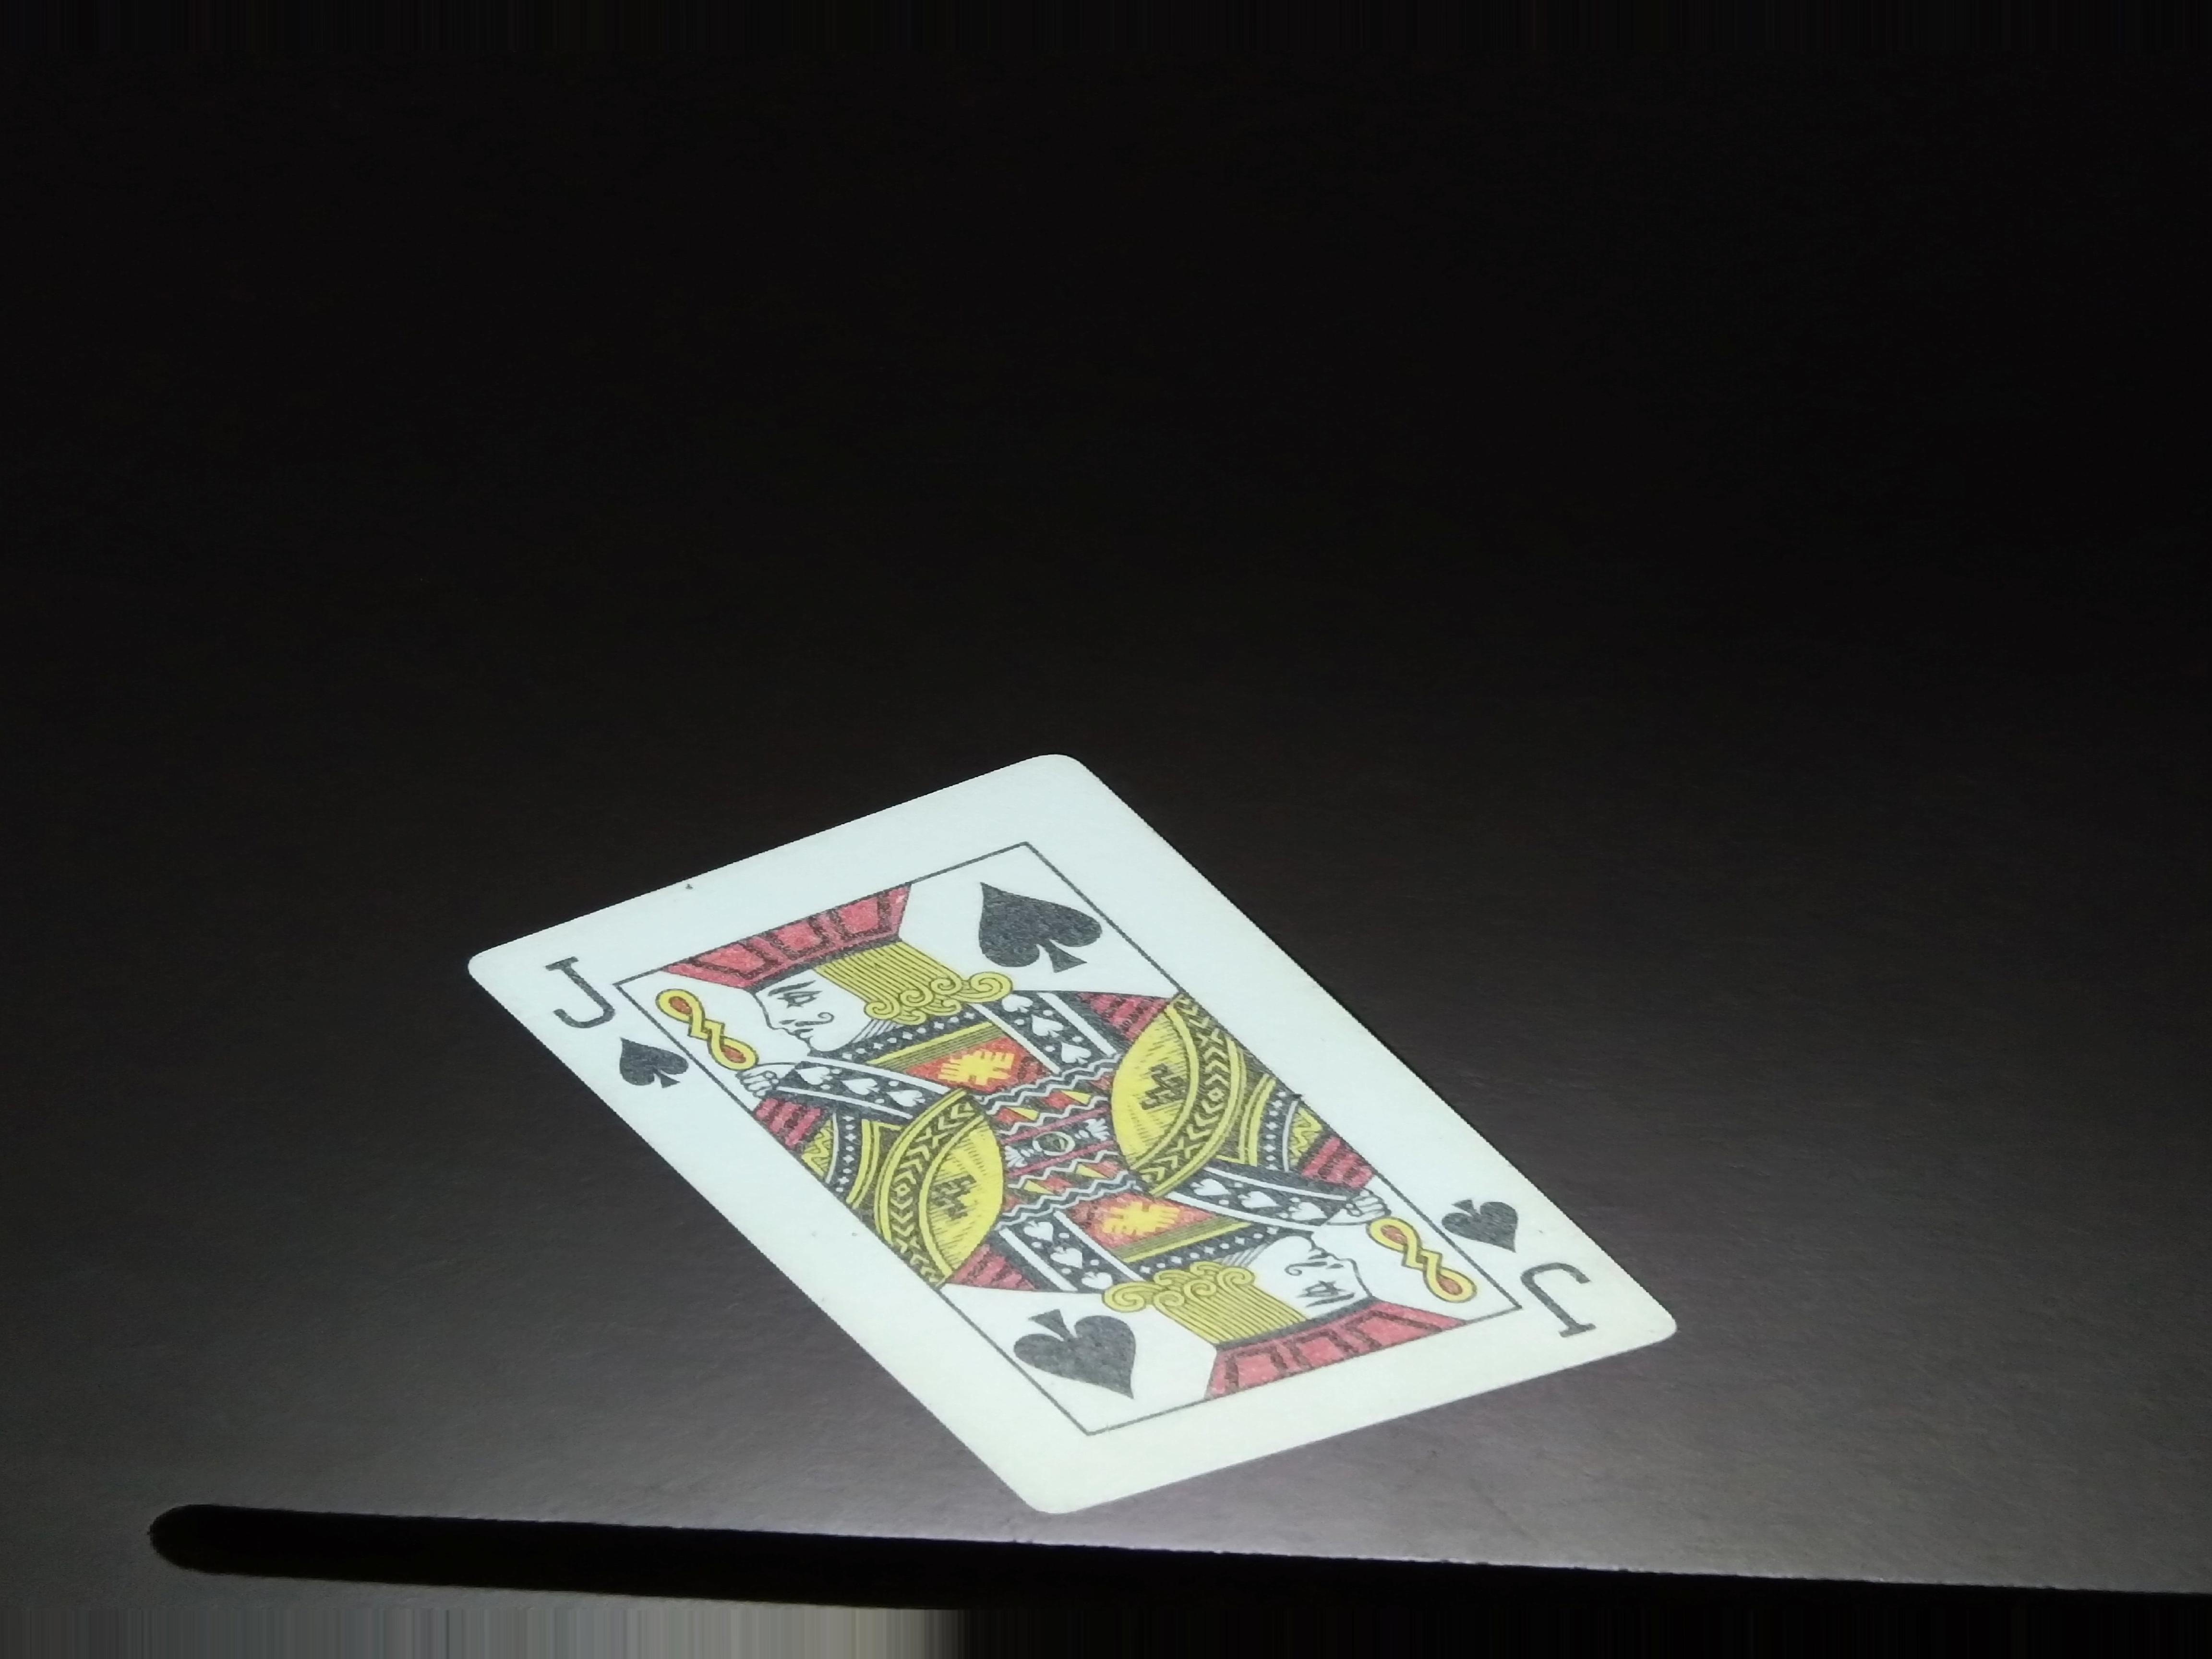JS: (545, 951, 681, 1098)
